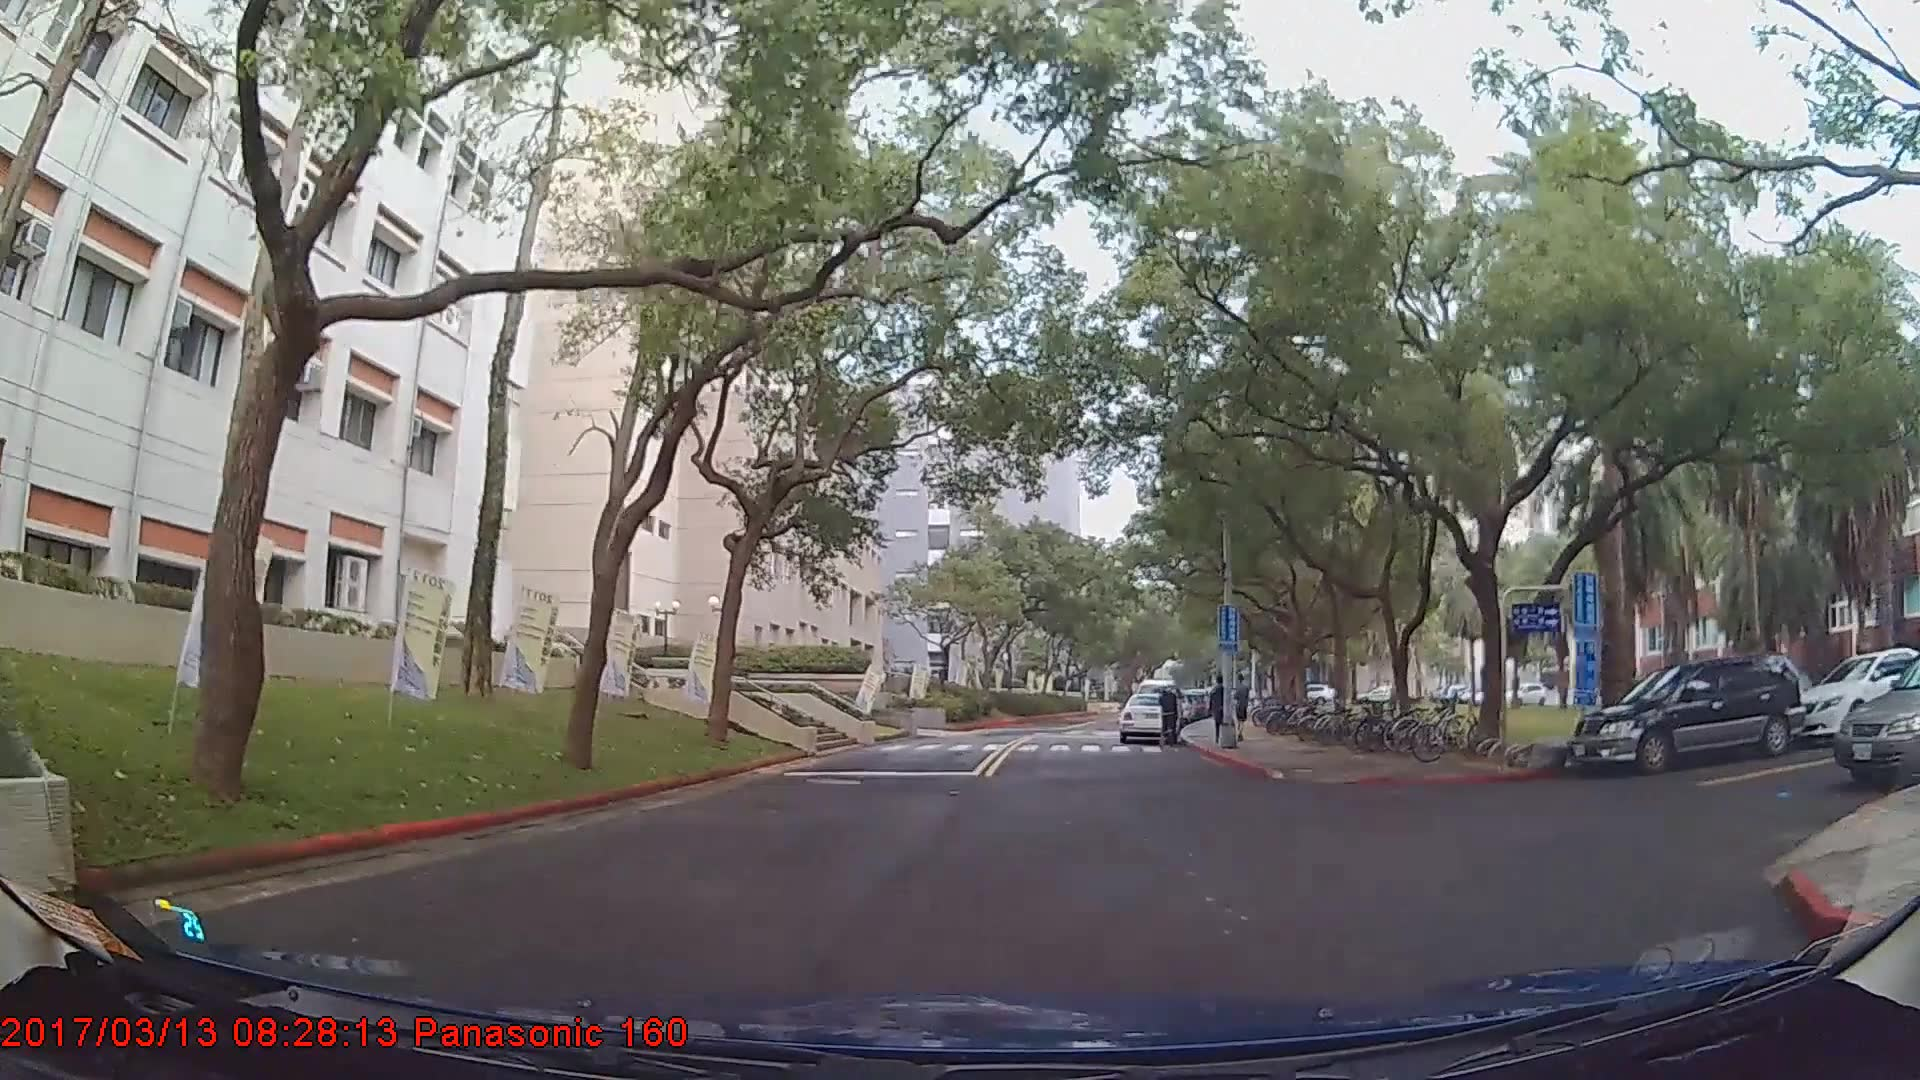pedestrian: (1208, 676, 1233, 744), (1157, 679, 1178, 750)
vehicle: (1570, 650, 1806, 775), (1794, 645, 1919, 741), (1834, 651, 1920, 786), (1116, 690, 1179, 740)
